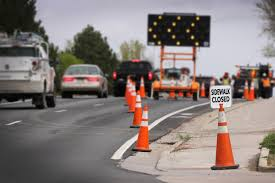car: (1, 33, 56, 109), (59, 64, 108, 99), (114, 58, 155, 96)
cone: (215, 105, 236, 164), (138, 104, 151, 150), (133, 92, 143, 127), (128, 82, 136, 112), (139, 76, 147, 98)
